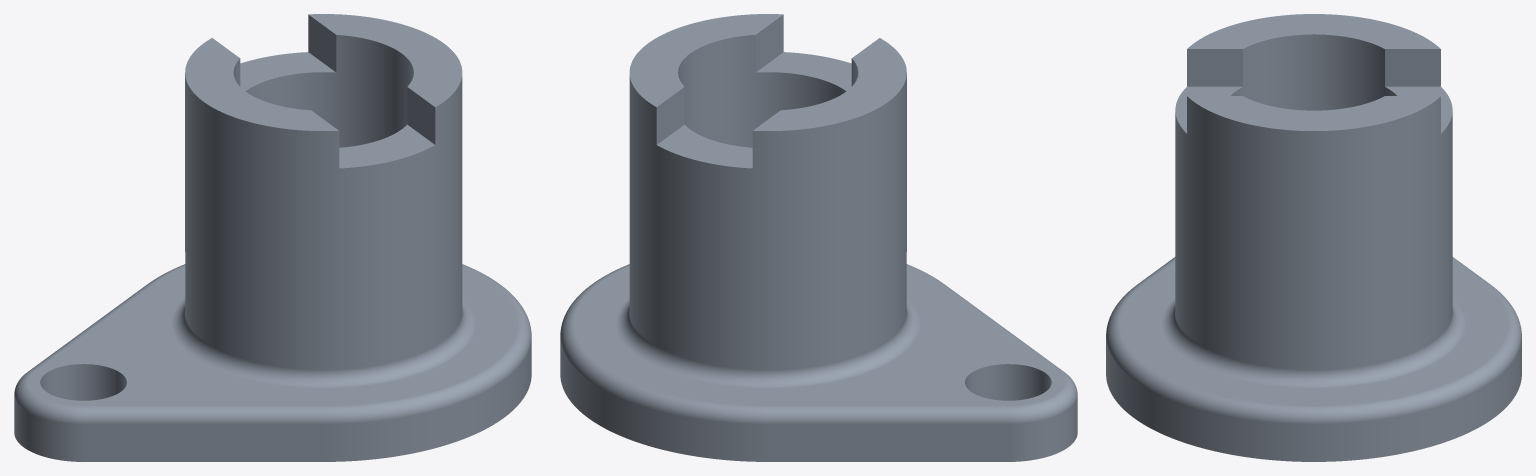
The model's file is ax_slotted_boss_flange.glb.
The picture shows the model from 3 angles, left to right: view 1: azimuth 30°, elevation 25°; view 2: azimuth 150°, elevation 25°; view 3: azimuth 270°, elevation 25°; orthographic projection.
Visible parts, largest first — view 1: slotted boss flange; view 2: slotted boss flange; view 3: slotted boss flange.
Part boxes in pixels (box(x1,y1,x2,y2)): slotted boss flange: box(14, 14, 531, 461); slotted boss flange: box(560, 14, 1077, 461); slotted boss flange: box(1106, 14, 1521, 461).
Bounding box in the file's own units: 80 × 48 × 59.98.
